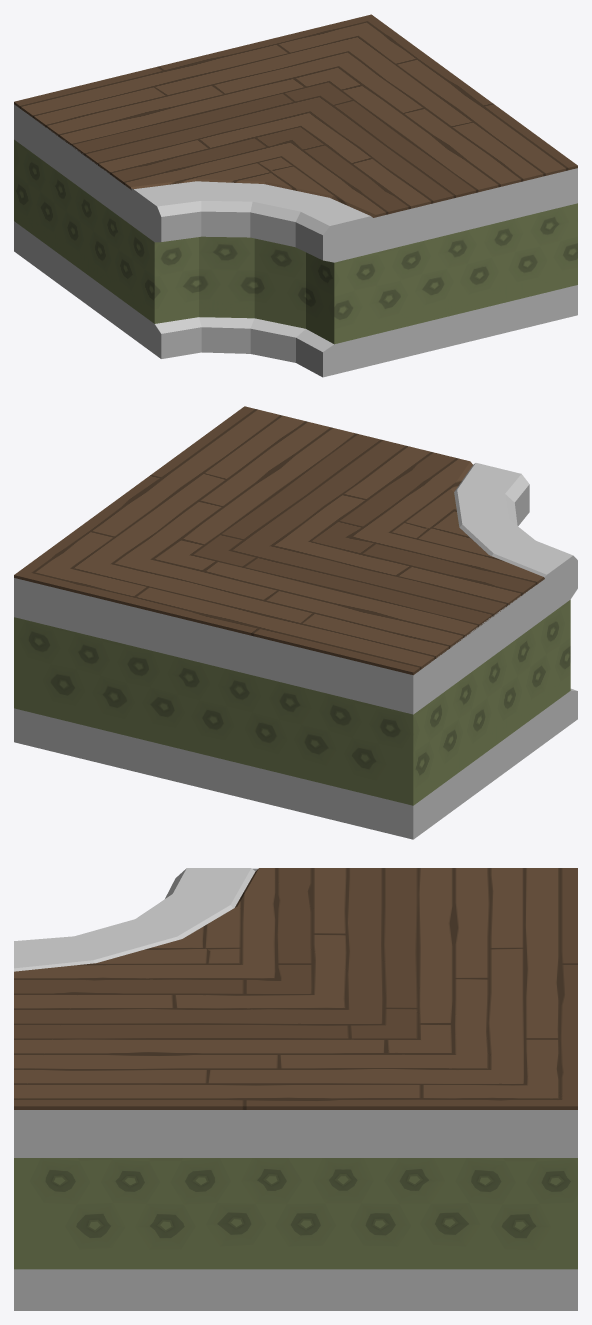
The model's file is SM_Prop_Platform_01_Corner_R_02.fbx.
3 renders of one model, top to bottom at view 1: azimuth 30°, elevation 25°; view 2: azimuth 150°, elevation 25°; view 3: azimuth 270°, elevation 25°, orthographic. The views are drawn at different scales.
Visible parts, largest first — view 1: SM_Prop_Platform_01_Corner_R_02; view 2: SM_Prop_Platform_01_Corner_R_02; view 3: SM_Prop_Platform_01_Corner_R_02.
Part boxes in pixels (x1,y1,x2,y2): SM_Prop_Platform_01_Corner_R_02: (14,14,577,377); SM_Prop_Platform_01_Corner_R_02: (14,406,577,839); SM_Prop_Platform_01_Corner_R_02: (14,868,577,1310).
Bounding box in the file's own units: 250 × 100 × 250.
